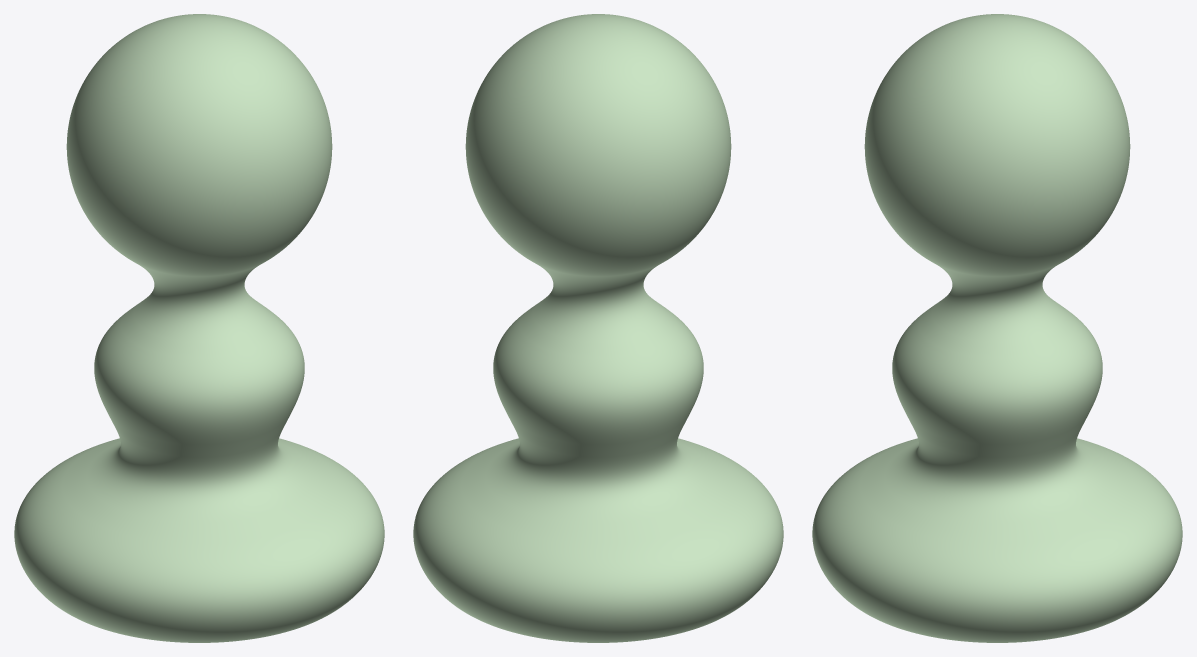
File: Fate Game Piece V2 (2).glb
3 views of the same model, side by side, from view 1: azimuth 30°, elevation 25°; view 2: azimuth 150°, elevation 25°; view 3: azimuth 270°, elevation 25° (orthographic).
Visible parts, largest first — view 1: mesh0_mesh_2, mesh0_mesh_3, mesh0_mesh_4, mesh0_mesh_1; view 2: mesh0_mesh_1, mesh0_mesh_3, mesh0_mesh_4, mesh0_mesh_2; view 3: mesh0_mesh_4, mesh0_mesh_1, mesh0_mesh_2, mesh0_mesh_3.
Boxes of the visible parts, left/top/right/bottom form: mesh0_mesh_2: left=39, top=265, right=384, bottom=642; mesh0_mesh_3: left=66, top=17, right=265, bottom=276; mesh0_mesh_4: left=172, top=14, right=332, bottom=271; mesh0_mesh_1: left=14, top=271, right=343, bottom=602; mesh0_mesh_1: left=413, top=265, right=758, bottom=642; mesh0_mesh_3: left=532, top=17, right=731, bottom=276; mesh0_mesh_4: left=465, top=14, right=625, bottom=271; mesh0_mesh_2: left=456, top=271, right=783, bottom=602; mesh0_mesh_4: left=864, top=26, right=1130, bottom=276; mesh0_mesh_1: left=997, top=265, right=1182, bottom=642; mesh0_mesh_2: left=812, top=265, right=997, bottom=642; mesh0_mesh_3: left=865, top=14, right=1129, bottom=137.
Size of the model in its own units: 0.0334 by 0.0548 by 0.0334.
